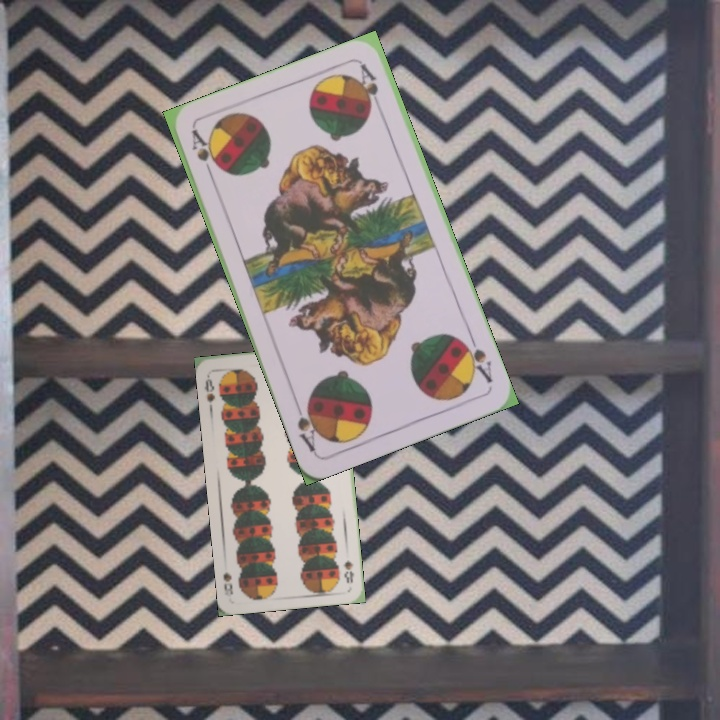S8: (200, 371, 218, 405), (339, 556, 357, 586)
SA: (457, 330, 495, 386), (187, 125, 220, 183)
